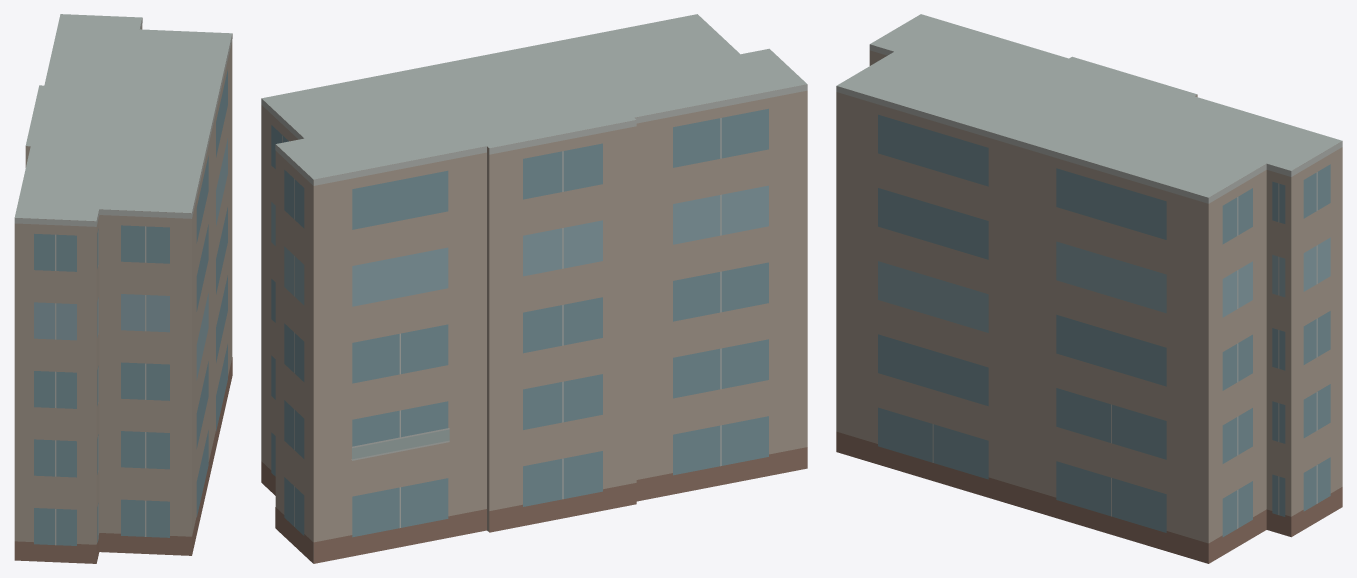
File: survey-upis-32960436.glb
3 renders of one model, left to right at view 1: azimuth 30°, elevation 25°; view 2: azimuth 150°, elevation 25°; view 3: azimuth 270°, elevation 25°, orthographic. The views are drawn at different scales.
Parts seen in each view (by area): view 1: survey-upis-32960436.tmp; view 2: survey-upis-32960436.tmp; view 3: survey-upis-32960436.tmp.
Part boxes in pixels (box(x1,y1,x2,y2)): survey-upis-32960436.tmp: box(14, 14, 232, 563); survey-upis-32960436.tmp: box(261, 14, 807, 563); survey-upis-32960436.tmp: box(836, 14, 1342, 563).
Size of the model in its own units: 15.83 by 14.7 by 18.43.
